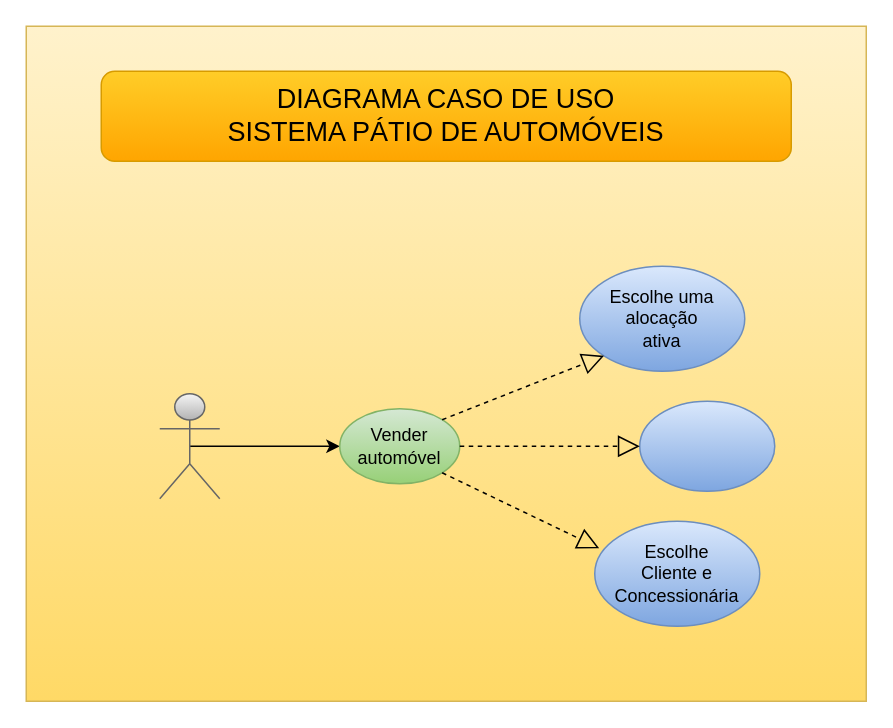
Some shapes in this 893 by 728 pixel diagram are drawn without their labels. Each missing label, with the box of its shape:
Escolhe automóvel: (638, 400, 775, 491)
Vendedor: (158, 392, 220, 499)
